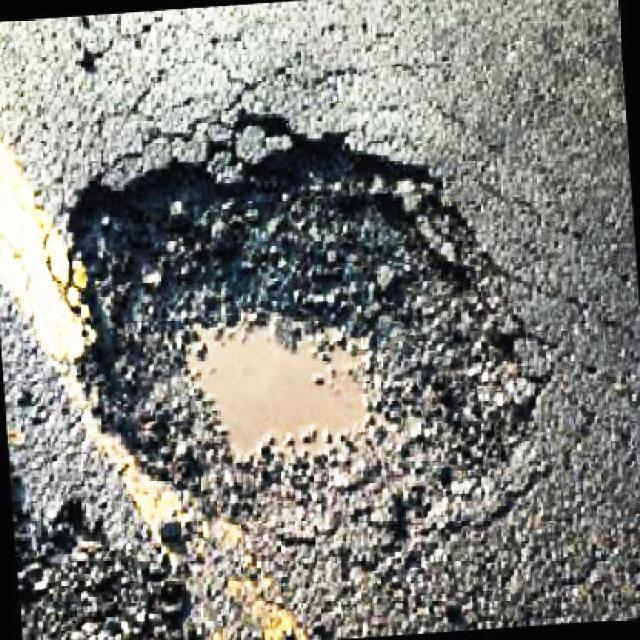pothole: (51, 108, 554, 548)
